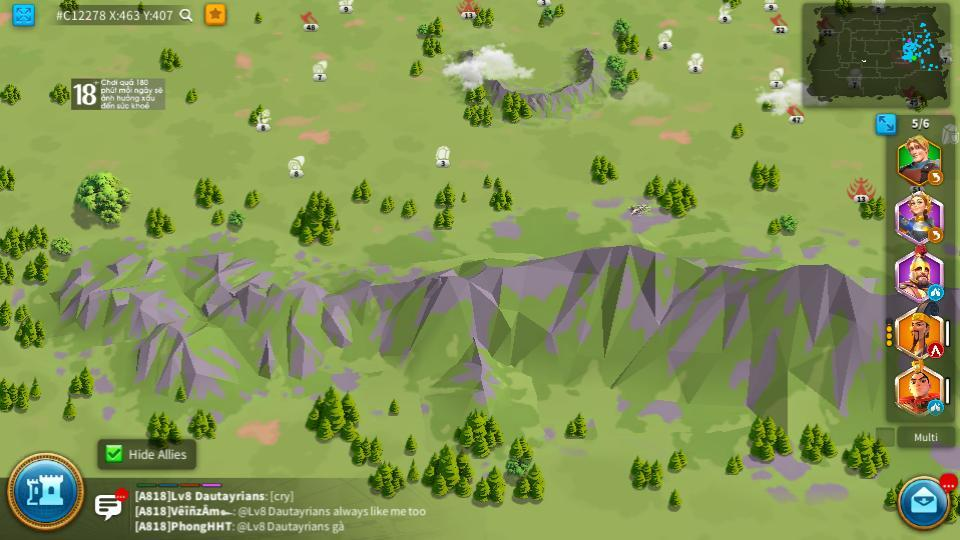march_attacking: (927, 345, 944, 358)
march_idle: (927, 401, 944, 415), (927, 285, 944, 299)
march_returning: (928, 230, 942, 242), (928, 172, 942, 183)
